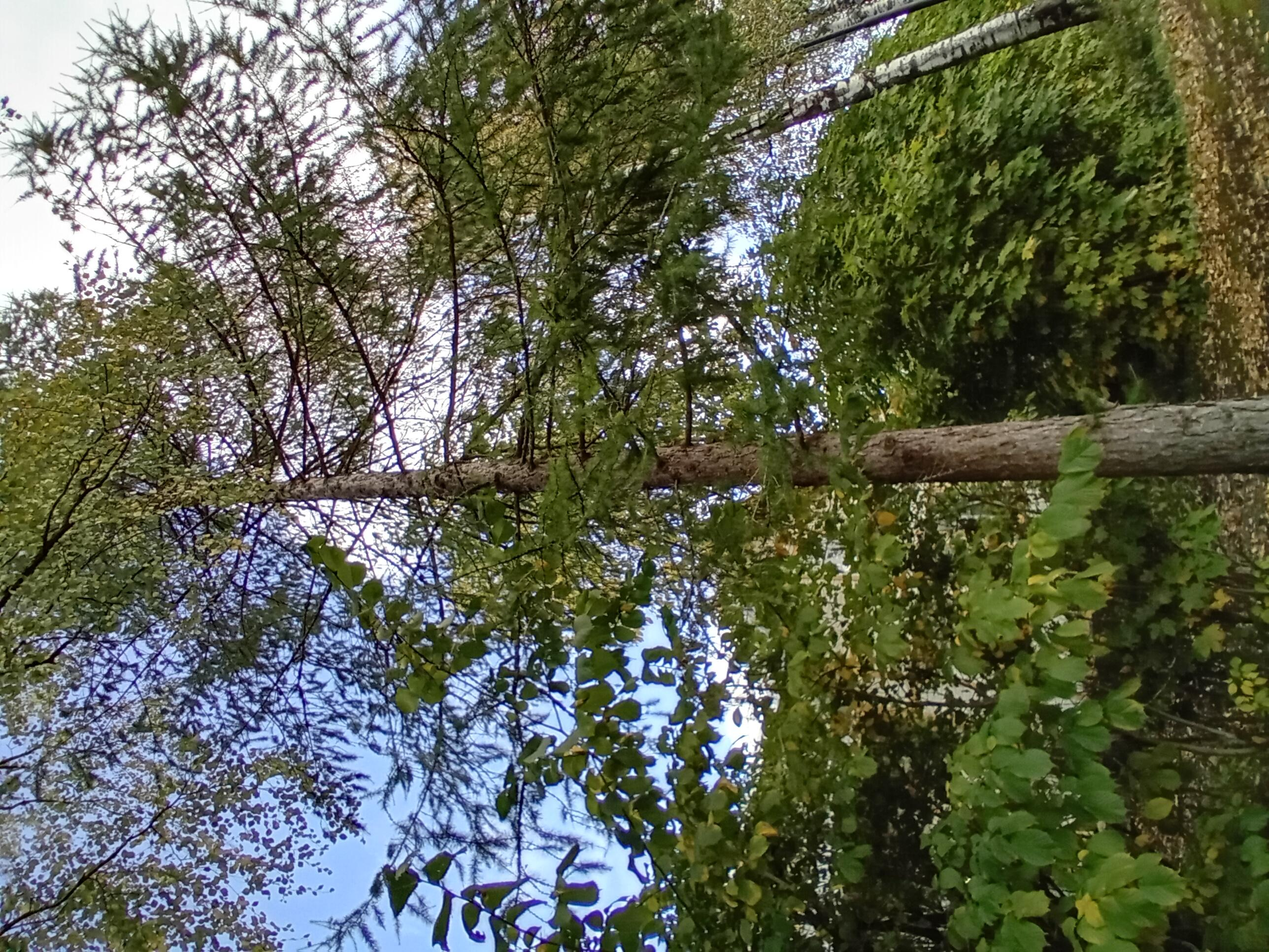Spruce: (1, 1, 1267, 949), (300, 145, 1043, 952)
